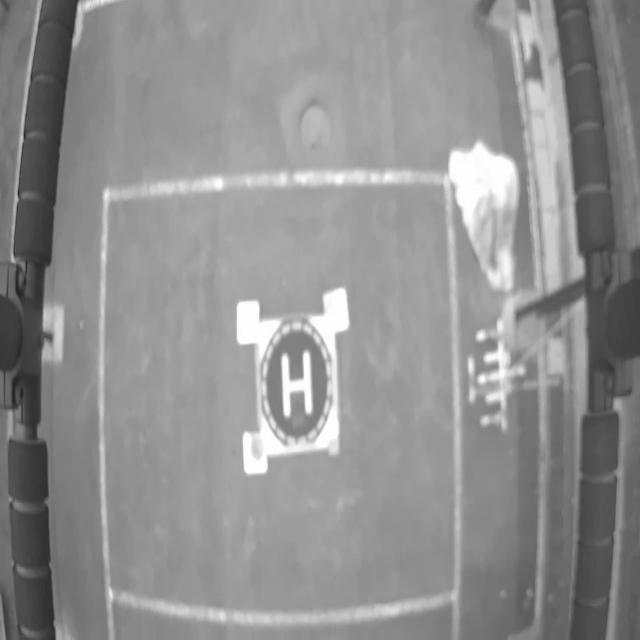Helipad: (281, 348, 314, 420)
